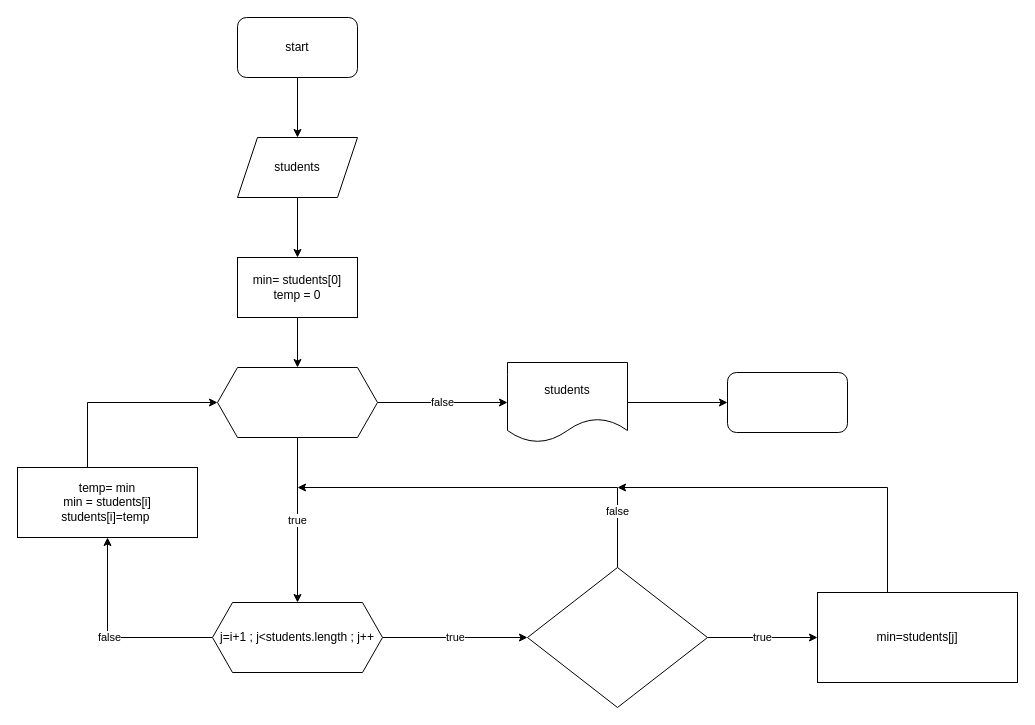
This 1035x725 diagram has some shape labels left out. Here are the shapes that lost their labels. From the top down, the box of each, then its label:
(216, 366, 378, 438): i=0 ; i< students.length ; i++
(726, 372, 848, 432): end
(526, 566, 708, 708): min>students[j].nom
